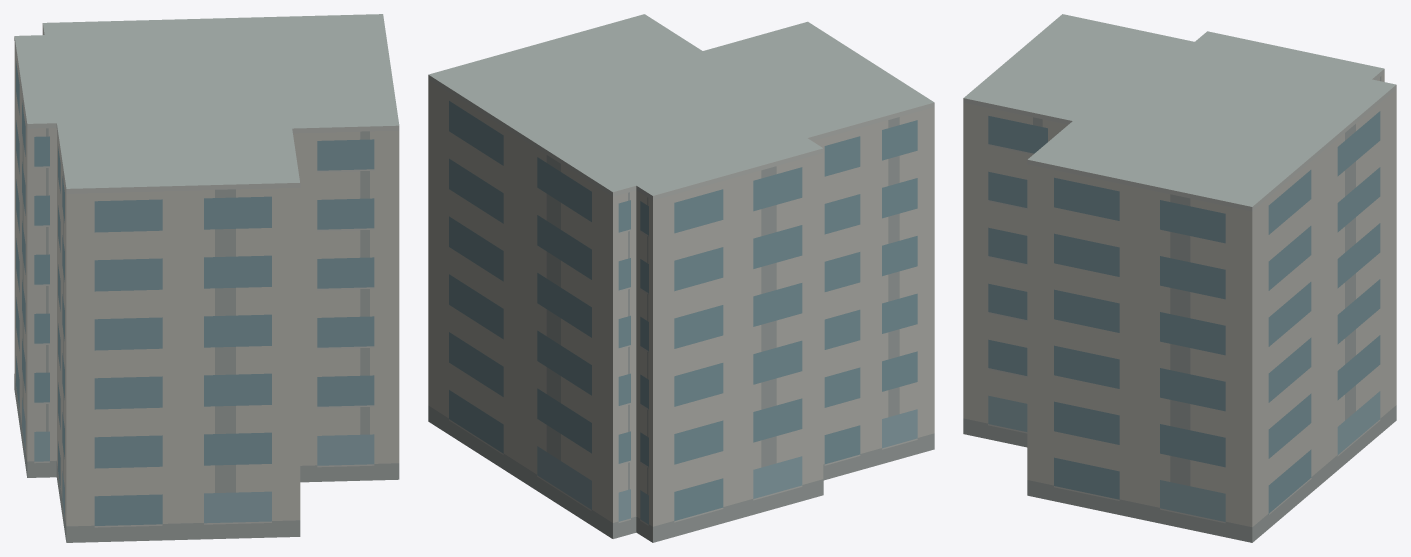
Rendered from residential-0c5c7116-cf02-402c-8606-4eb1ab328f93.glb.
3 renders of one model, left to right at view 1: azimuth 30°, elevation 25°; view 2: azimuth 150°, elevation 25°; view 3: azimuth 270°, elevation 25°, orthographic. The views are drawn at different scales.
Parts seen in each view (by area): view 1: residential-0c5c7116-cf02-402c-8606-4eb1ab328f93.tmp; view 2: residential-0c5c7116-cf02-402c-8606-4eb1ab328f93.tmp; view 3: residential-0c5c7116-cf02-402c-8606-4eb1ab328f93.tmp.
Boxes of the visible parts, bbox=[...] form: residential-0c5c7116-cf02-402c-8606-4eb1ab328f93.tmp: bbox=[14, 14, 399, 542]; residential-0c5c7116-cf02-402c-8606-4eb1ab328f93.tmp: bbox=[428, 14, 934, 542]; residential-0c5c7116-cf02-402c-8606-4eb1ab328f93.tmp: bbox=[963, 14, 1396, 542].
Bounding box in the file's own units: 22.18 × 18 × 21.04.
